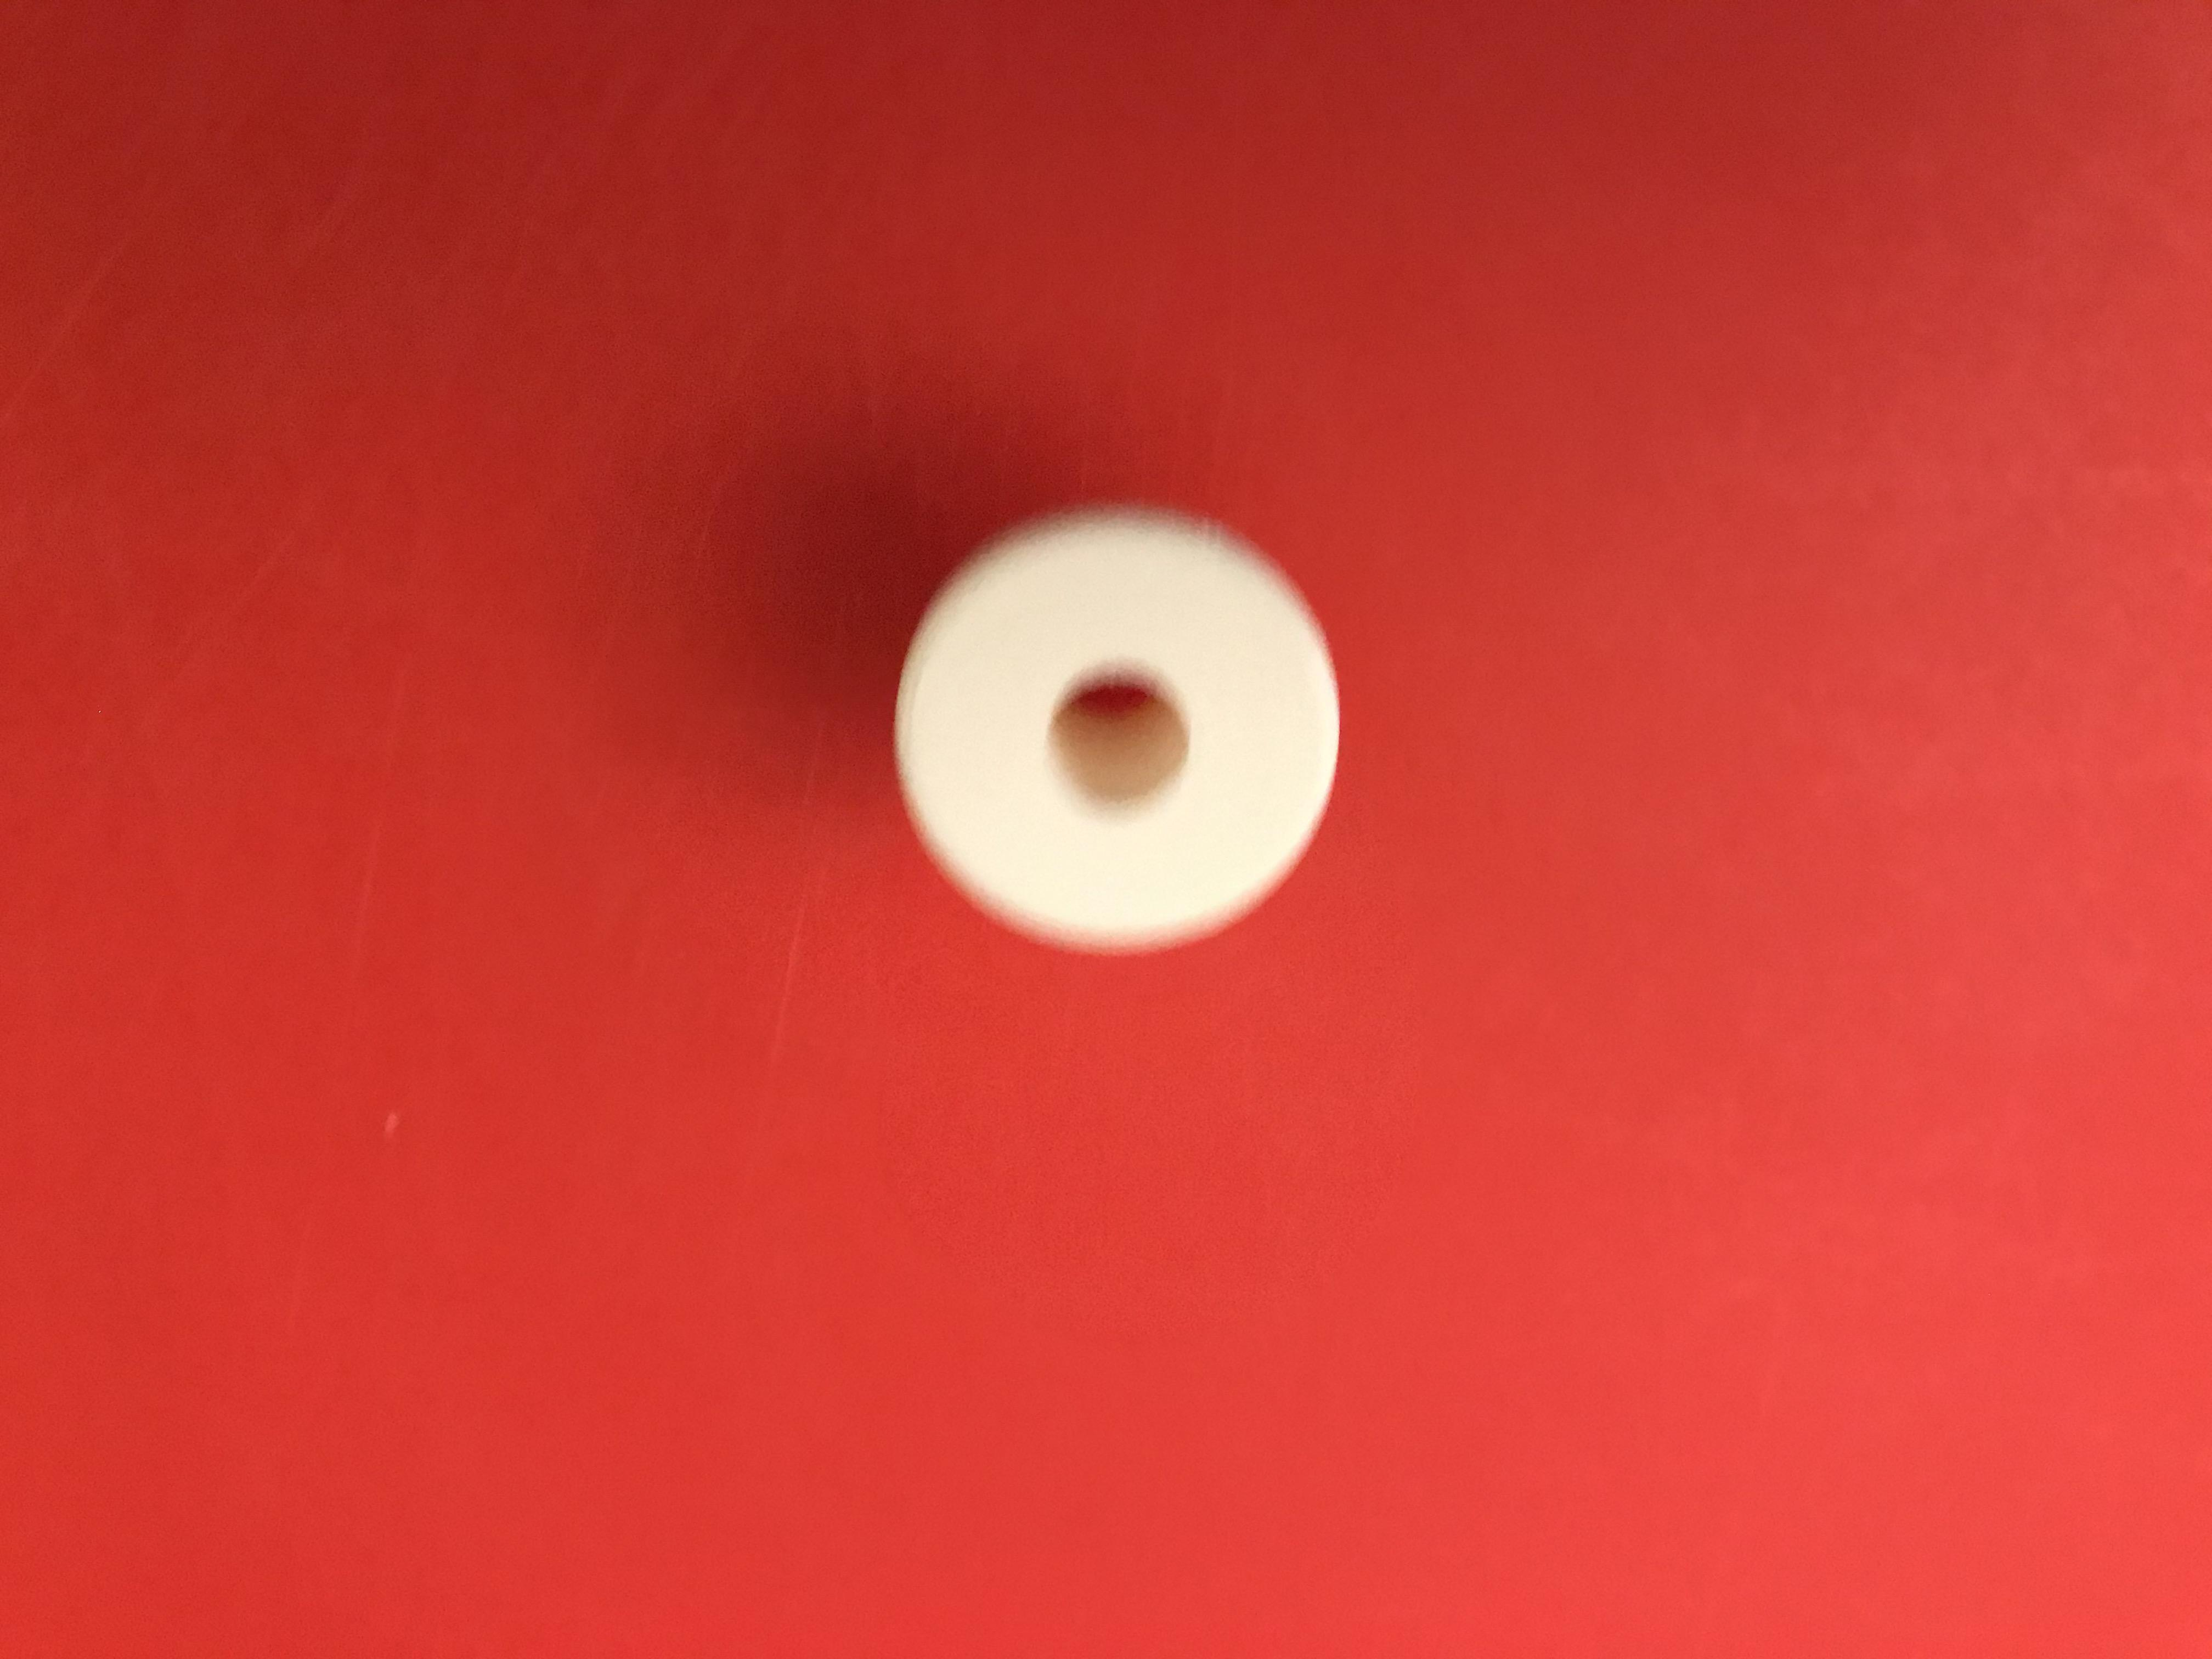White Cone: (885, 498, 1348, 953)
